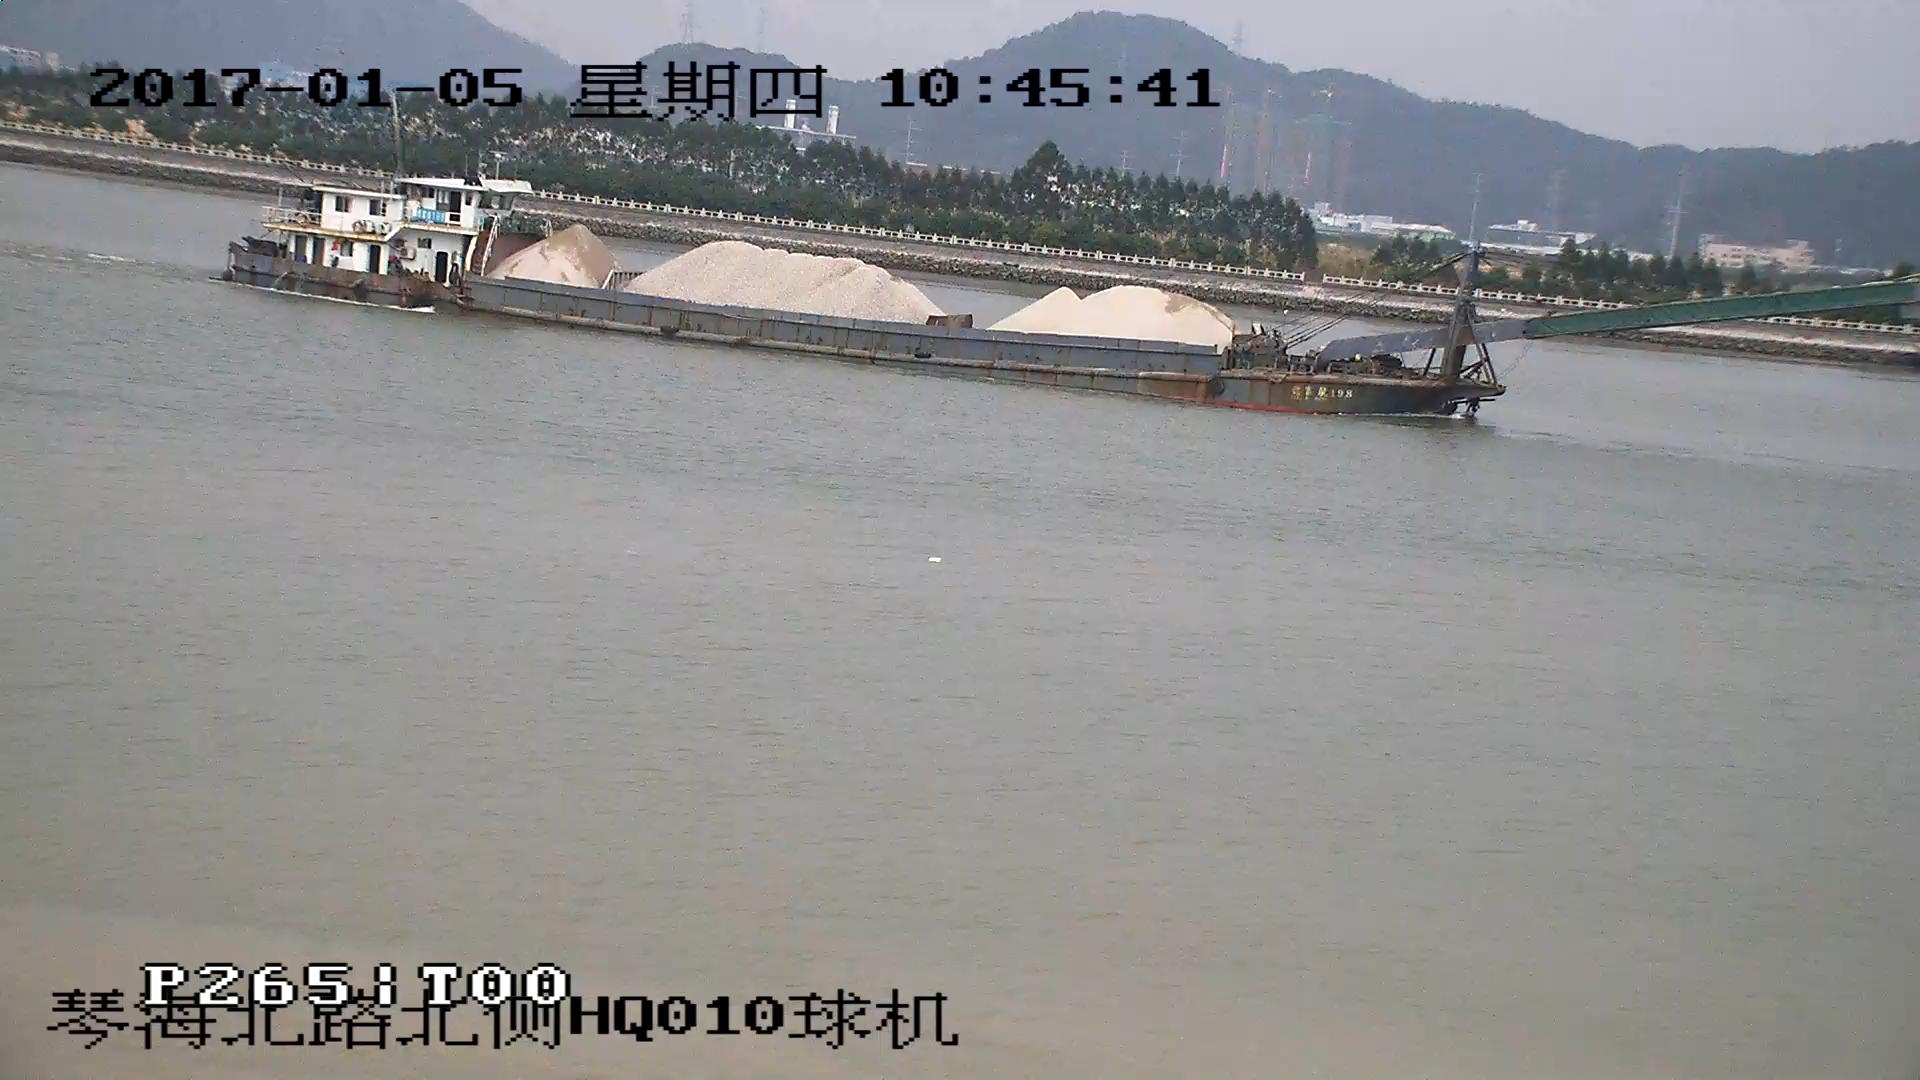ore carrier: (228, 172, 1919, 417)
